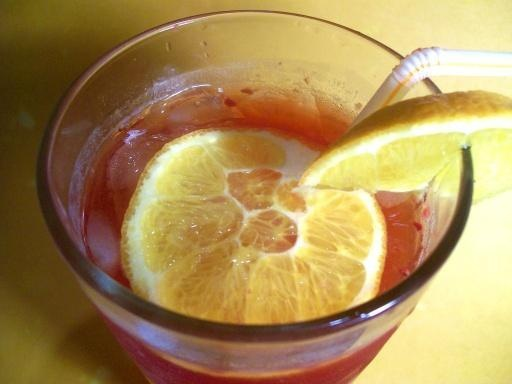background: (64, 48, 409, 230)
